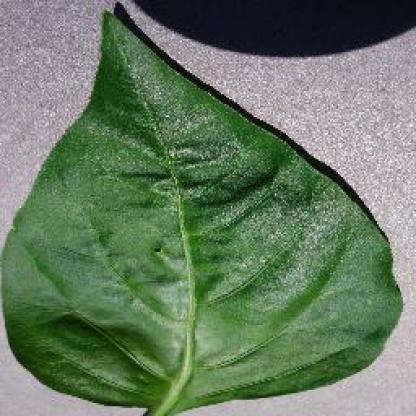good leaf: (26, 59, 389, 363)
